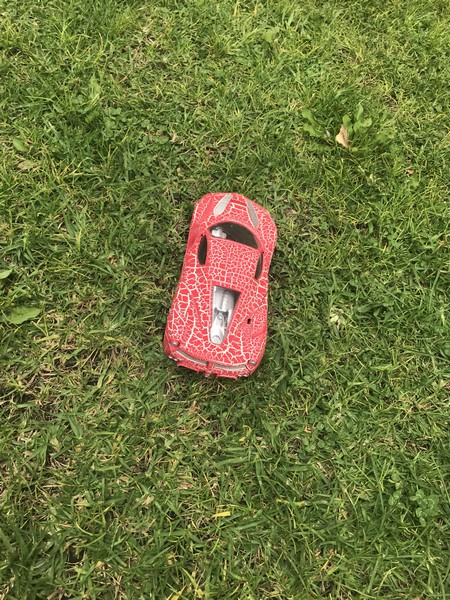RC: (161, 188, 281, 382)
